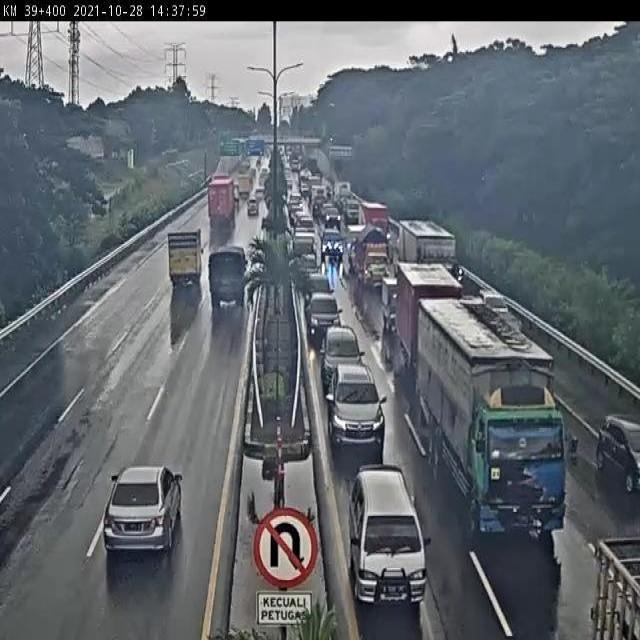Car: (102, 461, 185, 557), (324, 360, 388, 452), (596, 408, 640, 495), (319, 321, 366, 389), (304, 290, 345, 341), (304, 272, 336, 308), (477, 284, 508, 319), (317, 227, 346, 260), (297, 252, 321, 282), (324, 207, 342, 228), (247, 195, 259, 216)
Truck: (414, 297, 581, 543), (393, 264, 463, 393), (394, 220, 456, 270), (354, 223, 395, 291), (208, 246, 247, 310), (166, 229, 205, 286), (206, 176, 236, 224), (382, 274, 401, 332), (359, 202, 390, 234), (236, 173, 253, 200), (232, 180, 242, 205), (210, 170, 230, 182)
Van: (347, 464, 428, 609)
